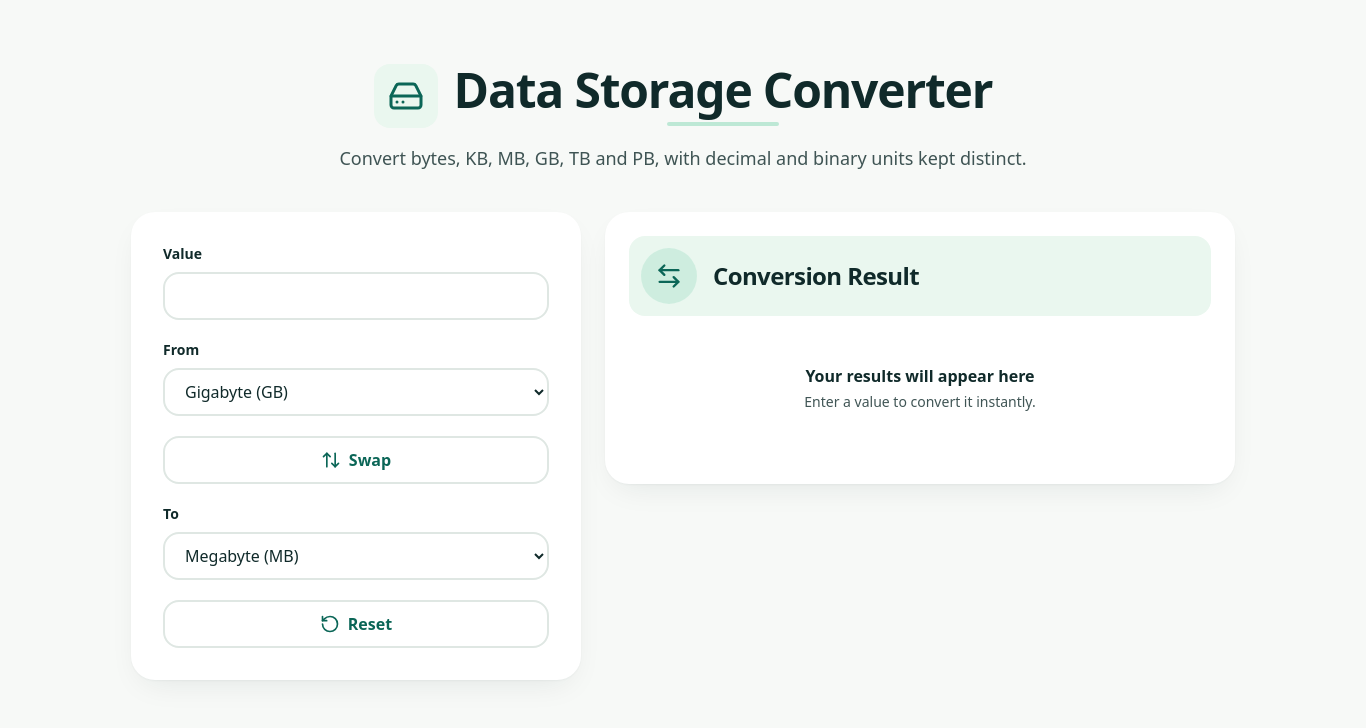
it: Data Storage Converter › converts instantly, and swaps
Step 1. Type "2" into the field labelled "Value" → [356, 296], box [163,272,549,320]
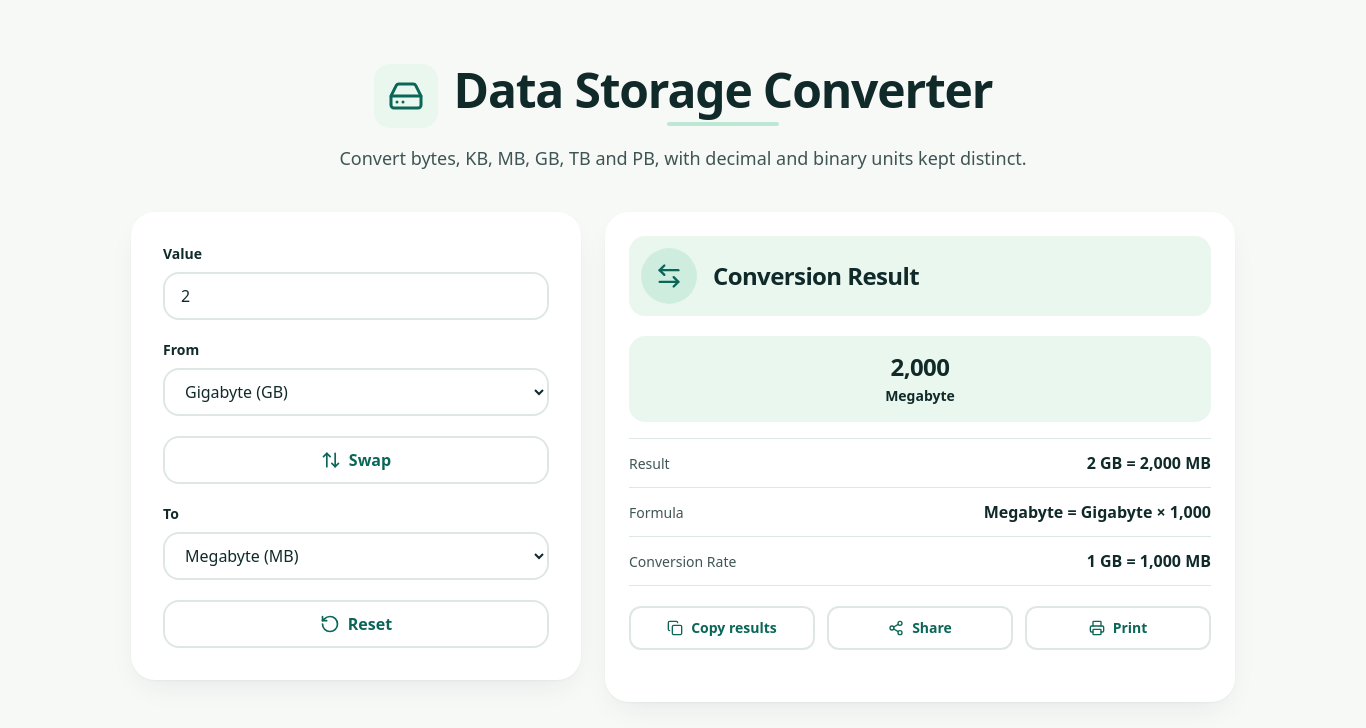
Step 2. Click the button with aria-label "Swap units" → [356, 460], box [163,436,549,484]
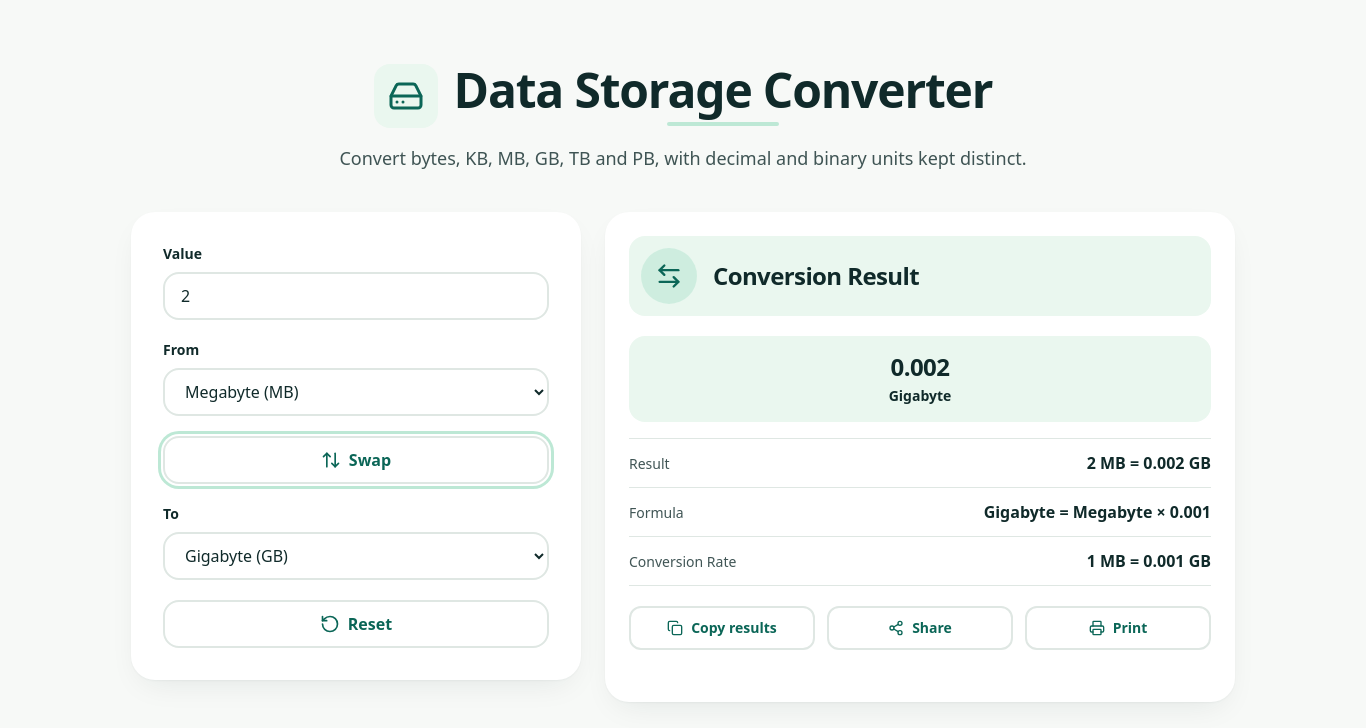
Check: the dropdown labelled "From" shows "Megabyte (MB)", box [163,368,549,416]
